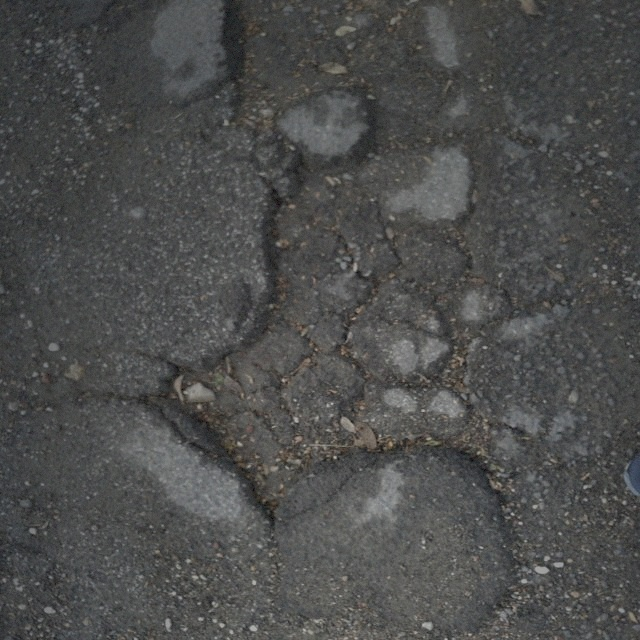pothole: (170, 30, 501, 503)
